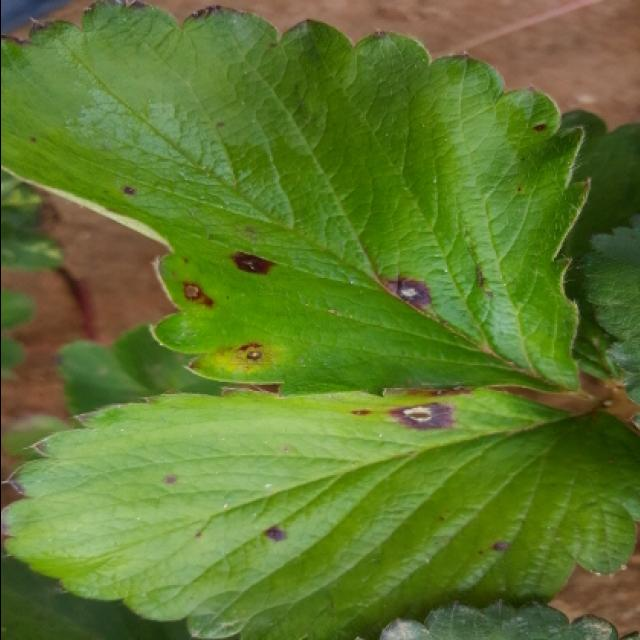Leaf Spot: (2, 2, 591, 399), (2, 386, 640, 640)
